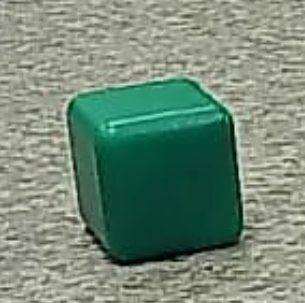green_cube: (59, 73, 251, 275)
